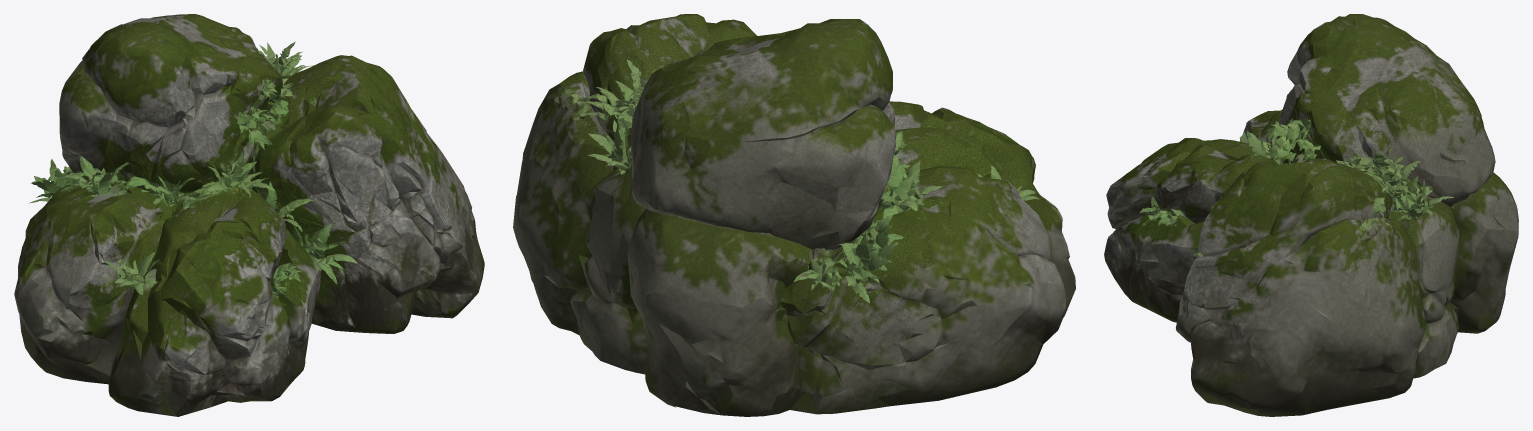
The model's file is RochedoMusgoEldoria.glb.
3 renders of one model, left to right at view 1: azimuth 30°, elevation 25°; view 2: azimuth 150°, elevation 25°; view 3: azimuth 270°, elevation 25°, orthographic. The views are drawn at different scales.
Parts seen in each view (by area): view 1: output_unwrapped; view 2: output_unwrapped; view 3: output_unwrapped.
Boxes of the visible parts, bbox=[...] form: output_unwrapped: bbox=[14, 14, 484, 416]; output_unwrapped: bbox=[513, 14, 1075, 416]; output_unwrapped: bbox=[1104, 14, 1518, 416].
Bounding box in the file's own units: 1.9 × 1.17 × 1.61.
1 material, 1 textured.
